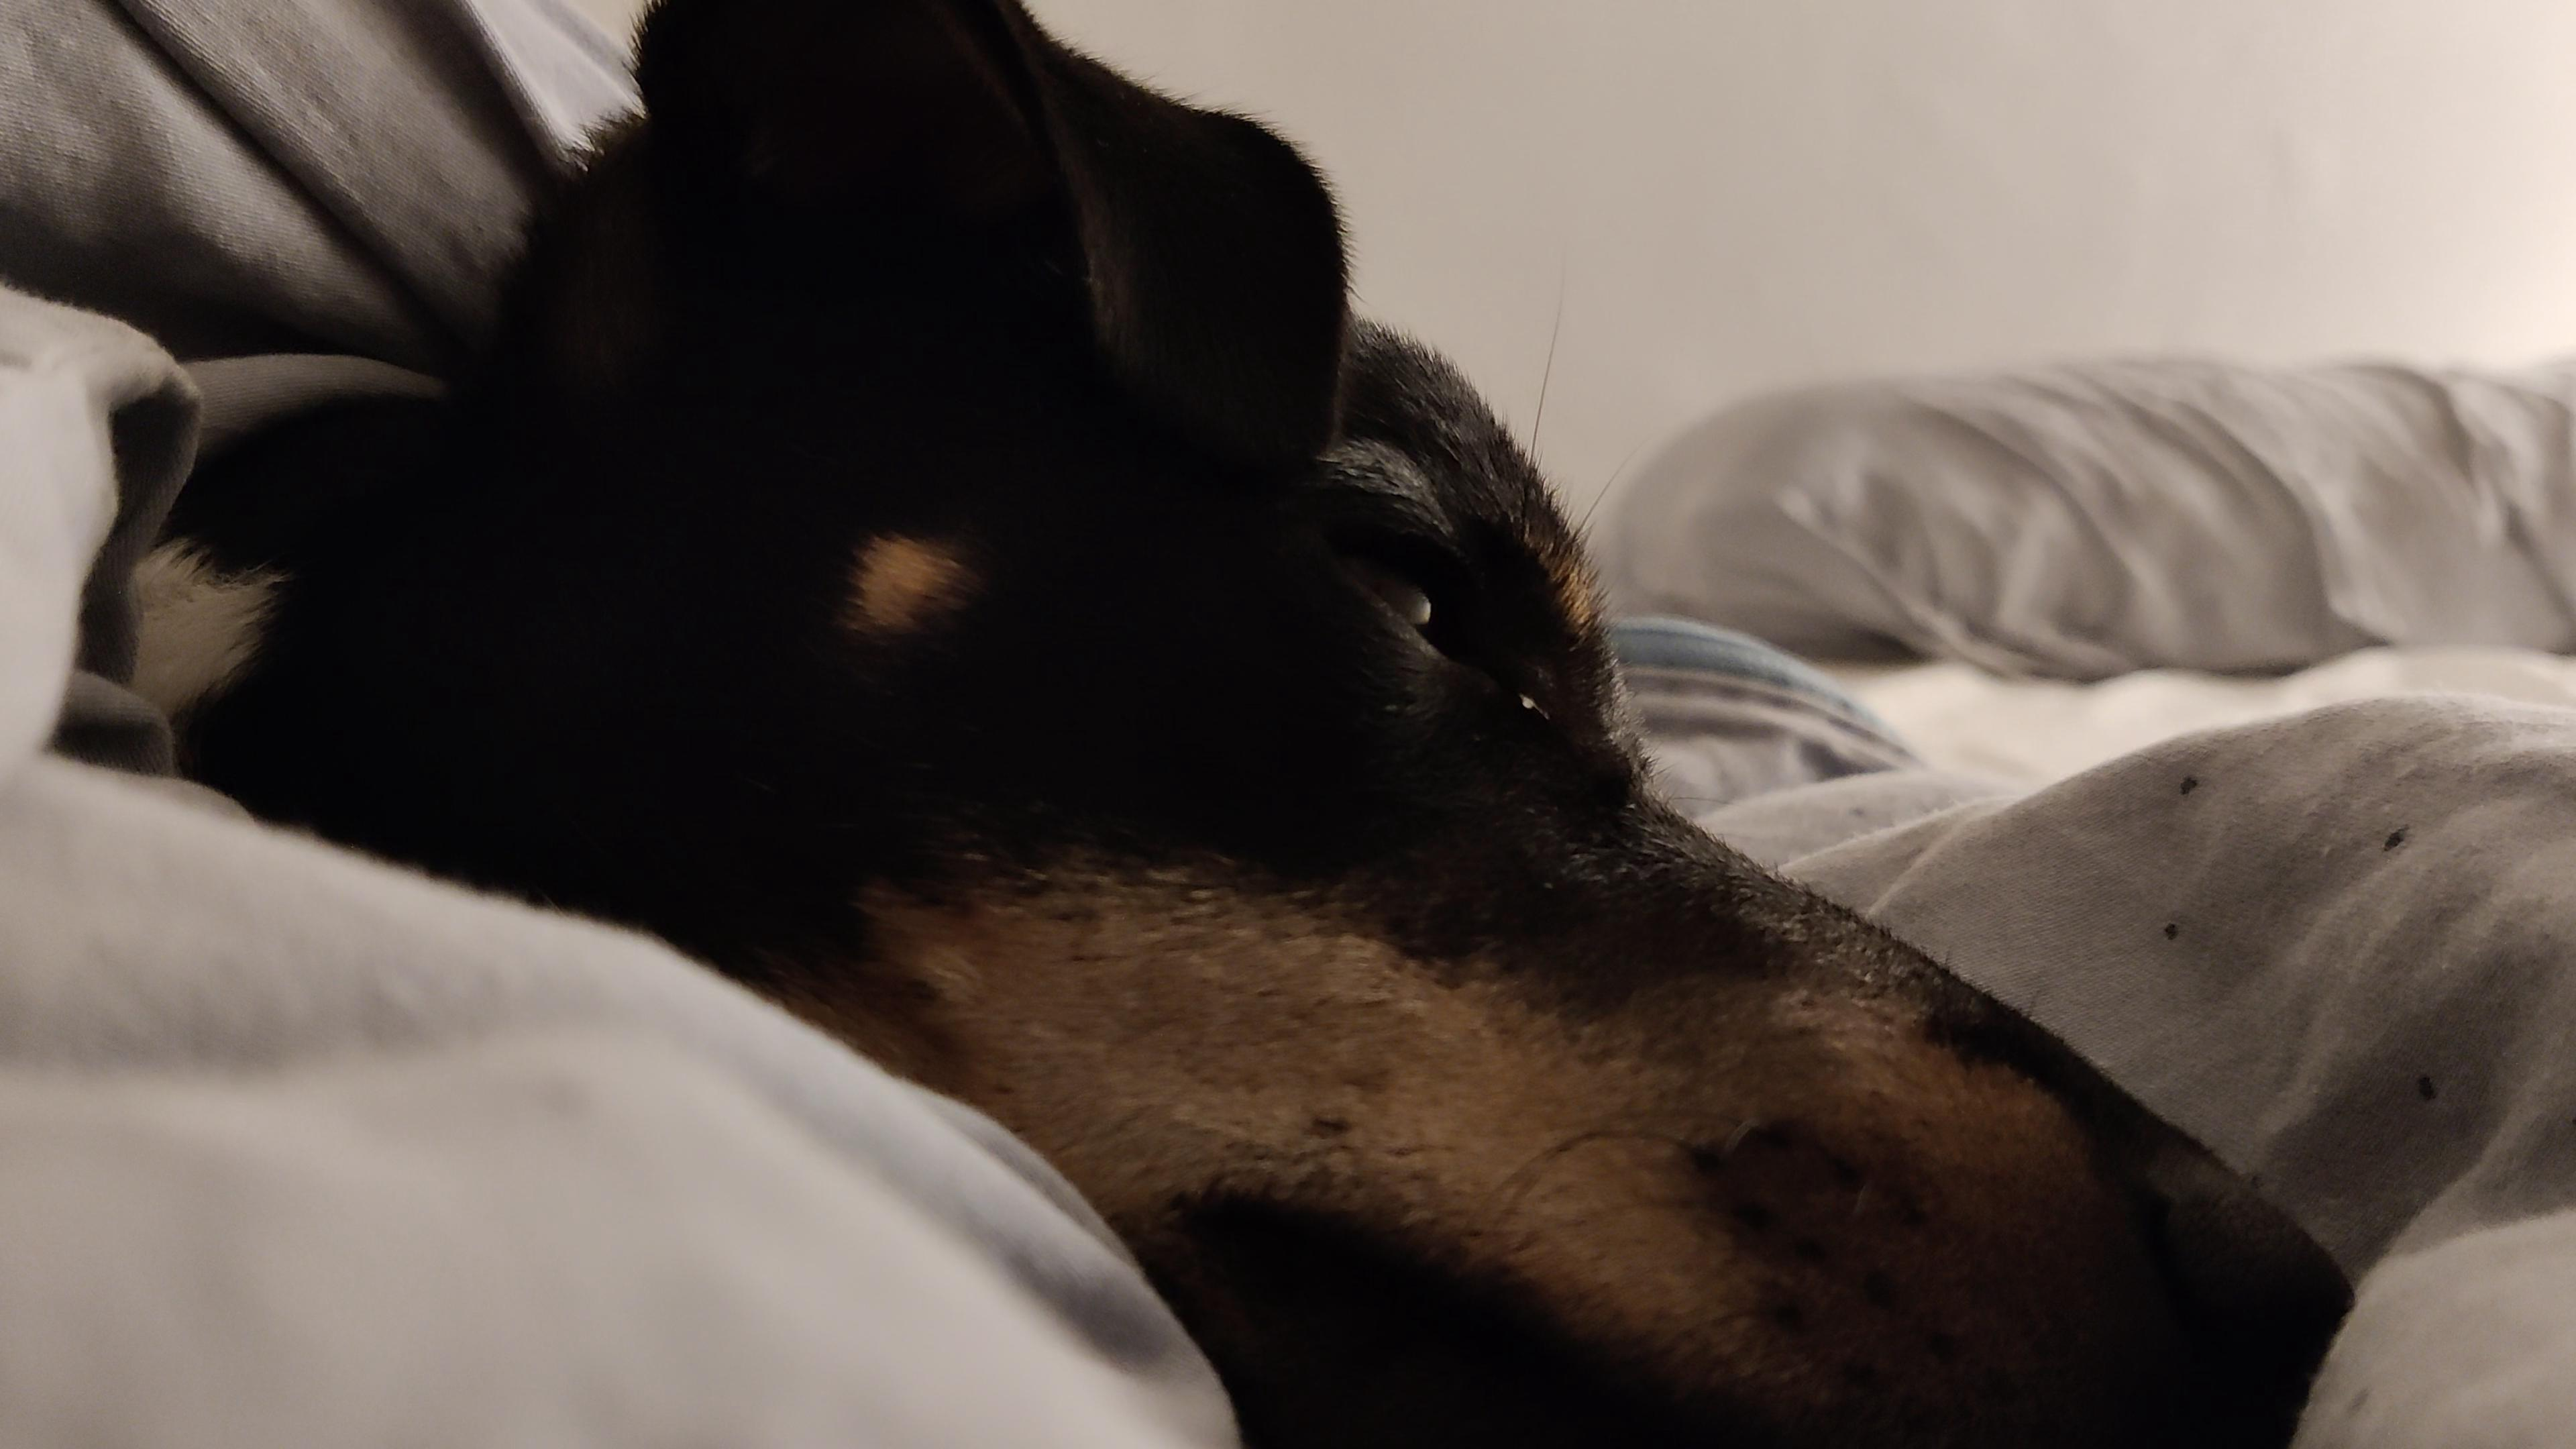Dog: (78, 0, 2376, 1449)
